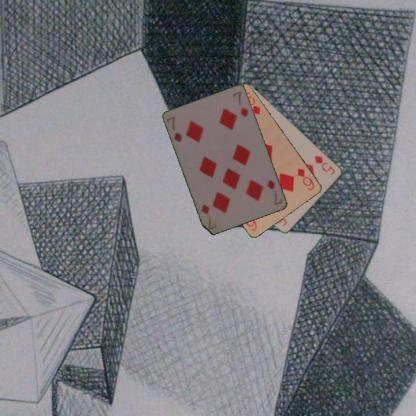5d: (312, 153, 337, 177)
6d: (294, 166, 315, 191)
7d: (164, 114, 184, 143), (265, 178, 284, 206)
